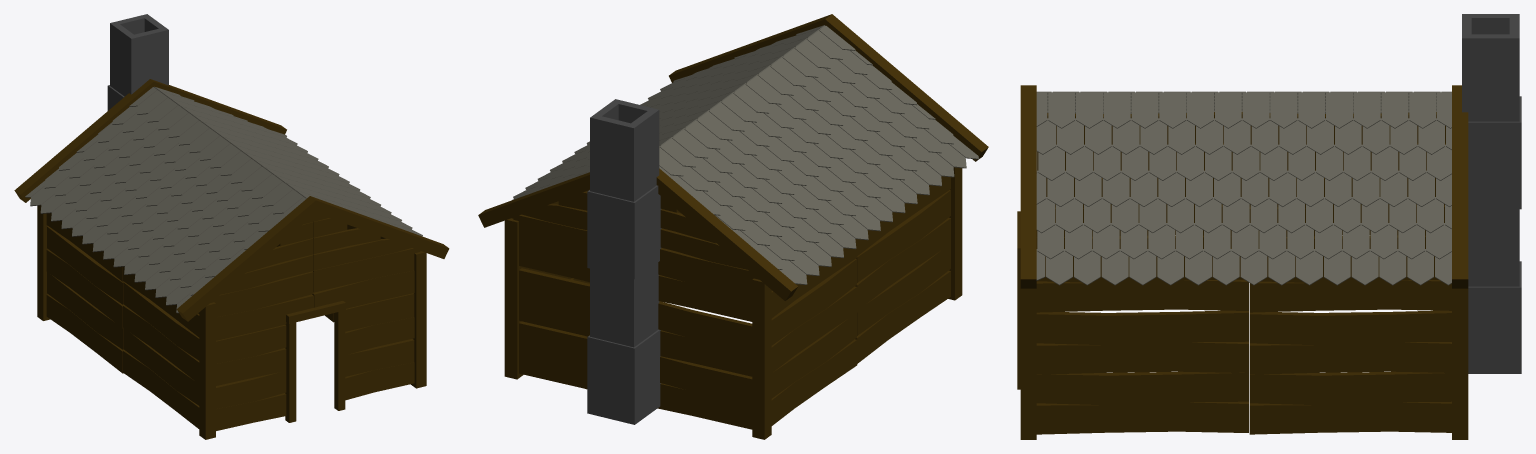
File: Wood House base.fbx
3 views of the same model, side by side, from view 1: azimuth 30°, elevation 25°; view 2: azimuth 150°, elevation 25°; view 3: azimuth 270°, elevation 25° (orthographic). The views are drawn at different scales.
Visible parts, largest first — view 1: Cube.037, Roof Tile Block.225, Cube.034; view 2: Cube.037, Roof Tile Block.225, Cube.034; view 3: Roof Tile Block.225, Cube.037, Cube.034.
Part boxes in pixels (left/top/right/bottom): Cube.037: left=14, top=79, right=449, bottom=439; Roof Tile Block.225: left=25, top=86, right=422, bottom=313; Cube.034: left=107, top=14, right=168, bottom=110; Cube.037: left=478, top=14, right=988, bottom=439; Roof Tile Block.225: left=512, top=25, right=978, bottom=284; Cube.034: left=587, top=99, right=661, bottom=424; Roof Tile Block.225: left=1036, top=91, right=1451, bottom=285; Cube.037: left=1017, top=85, right=1468, bottom=439; Cube.034: left=1462, top=14, right=1521, bottom=373.
Bounding box in the file's own units: 7.6 × 7.06 × 9.35.
